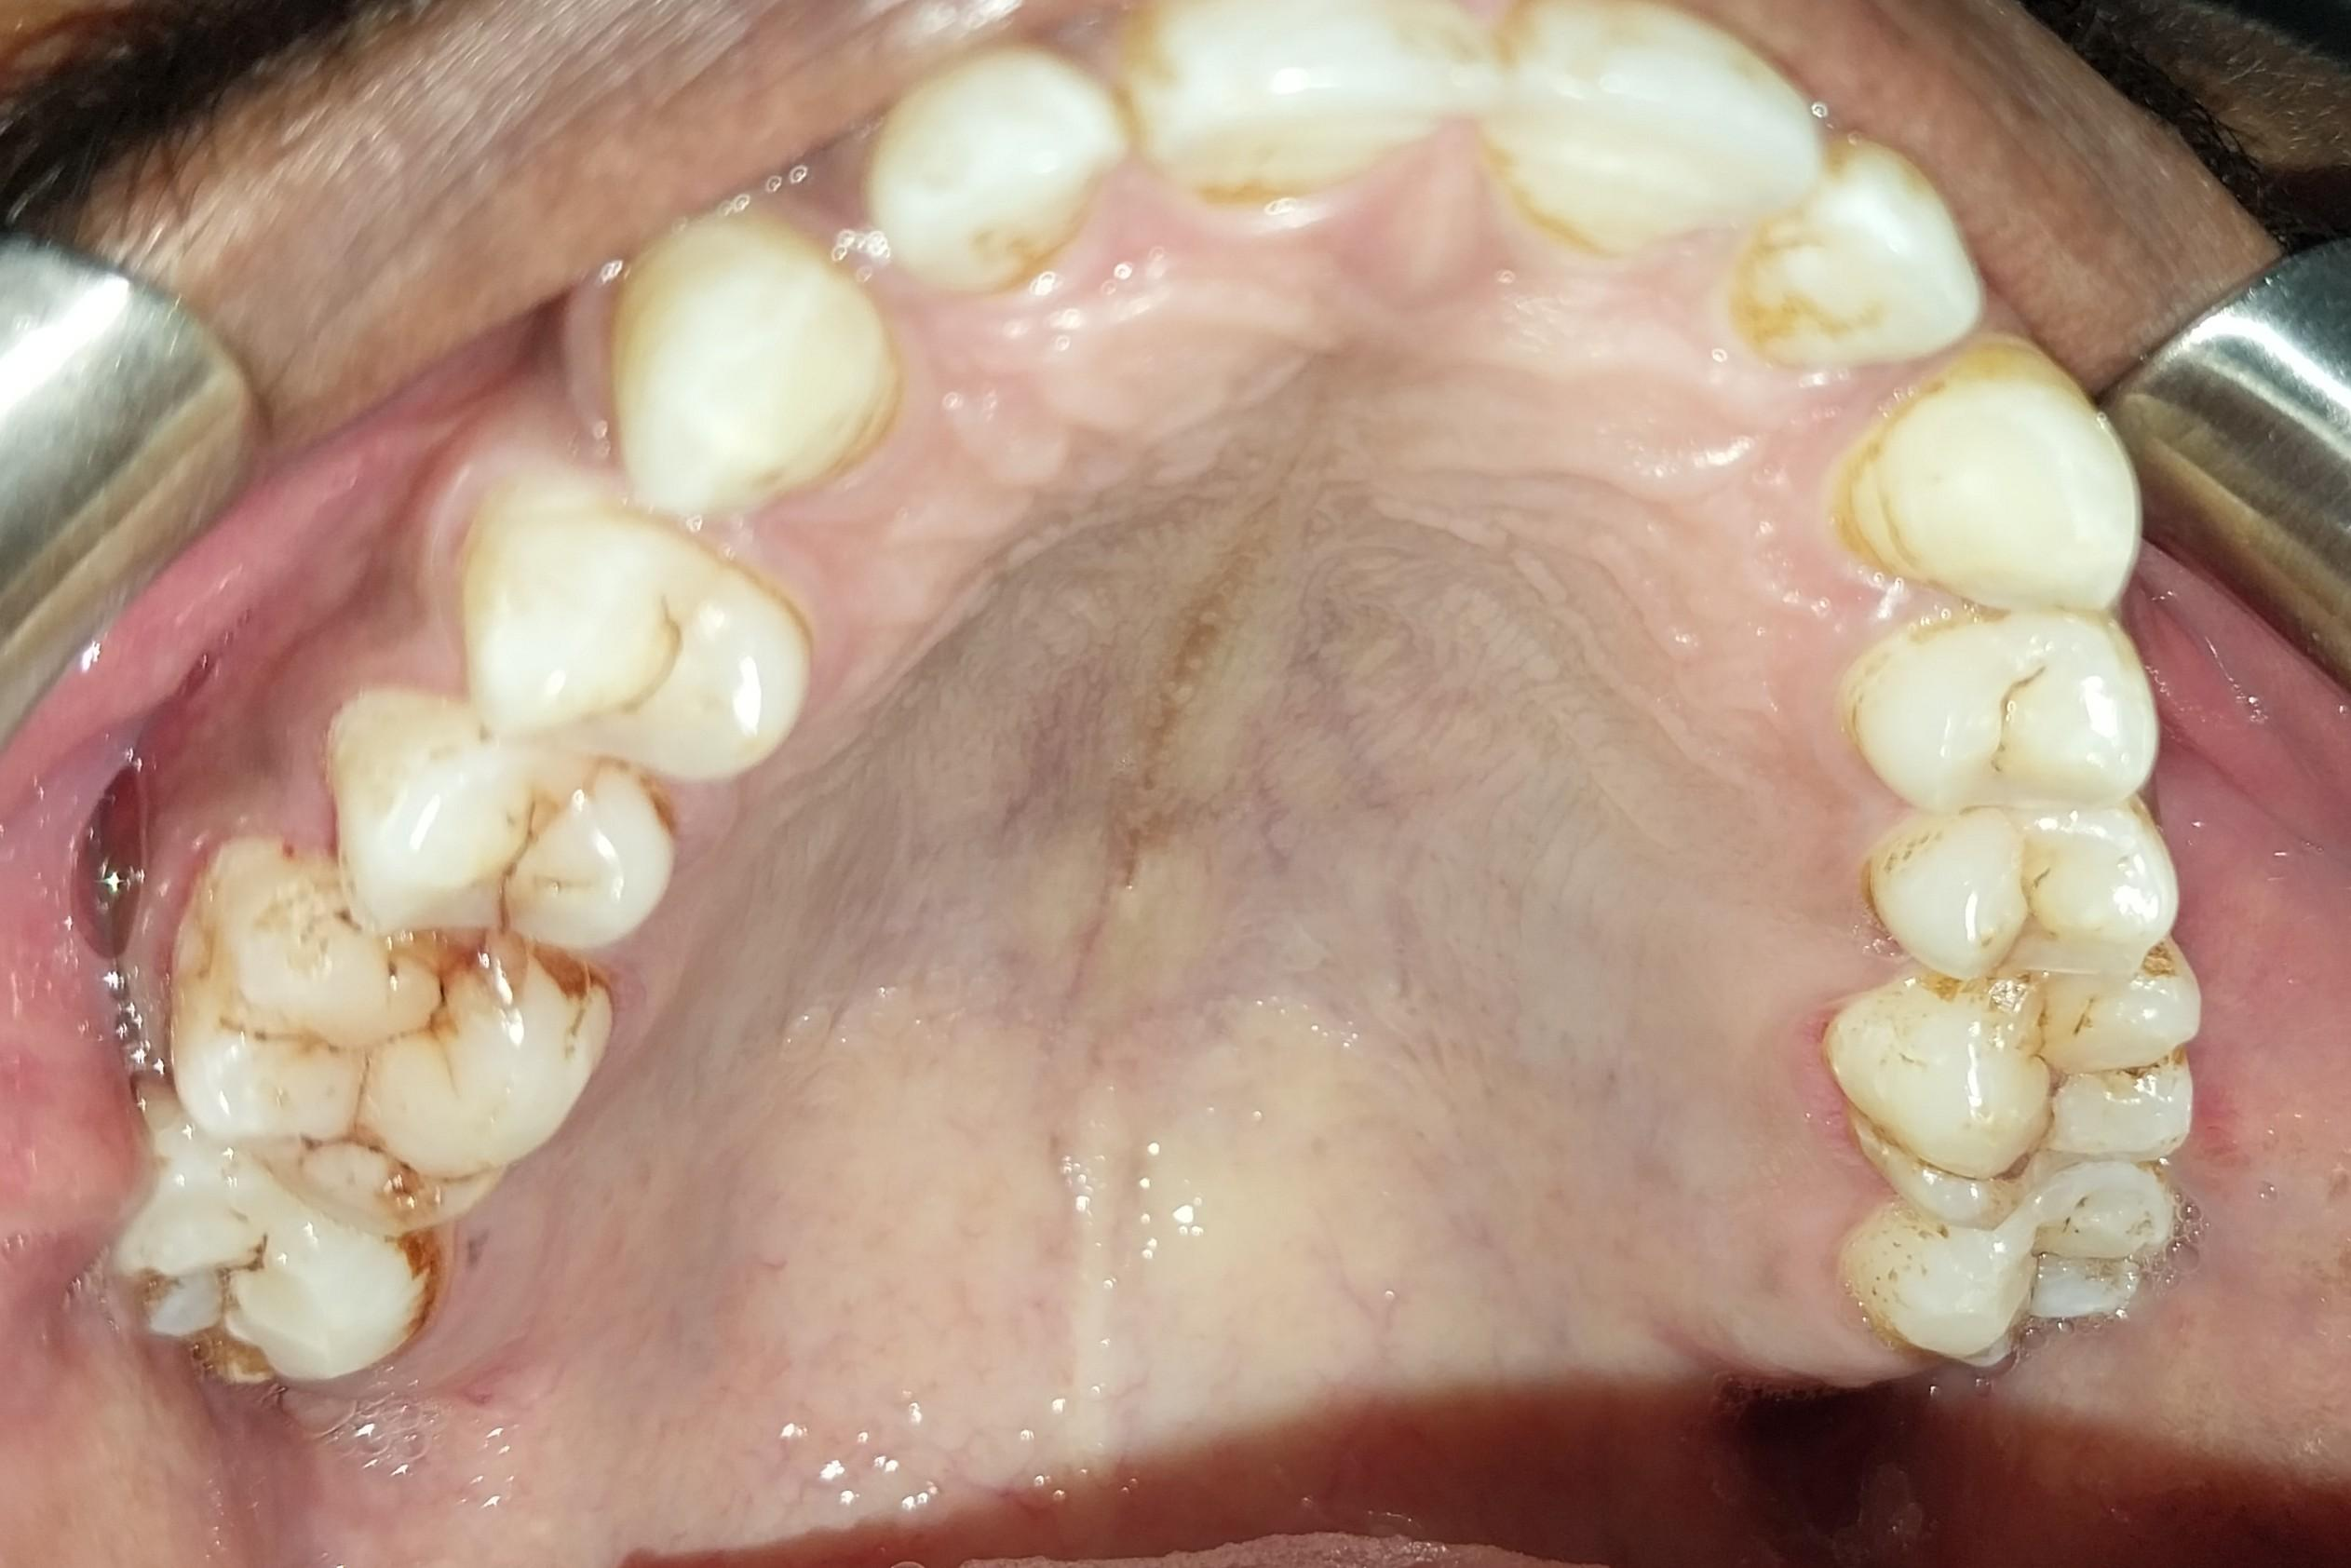D: (169, 845, 614, 1225), (443, 493, 811, 764), (1845, 956, 2205, 1231), (101, 1127, 433, 1390), (327, 710, 678, 956), (1851, 605, 2162, 823), (1874, 804, 2162, 996)
